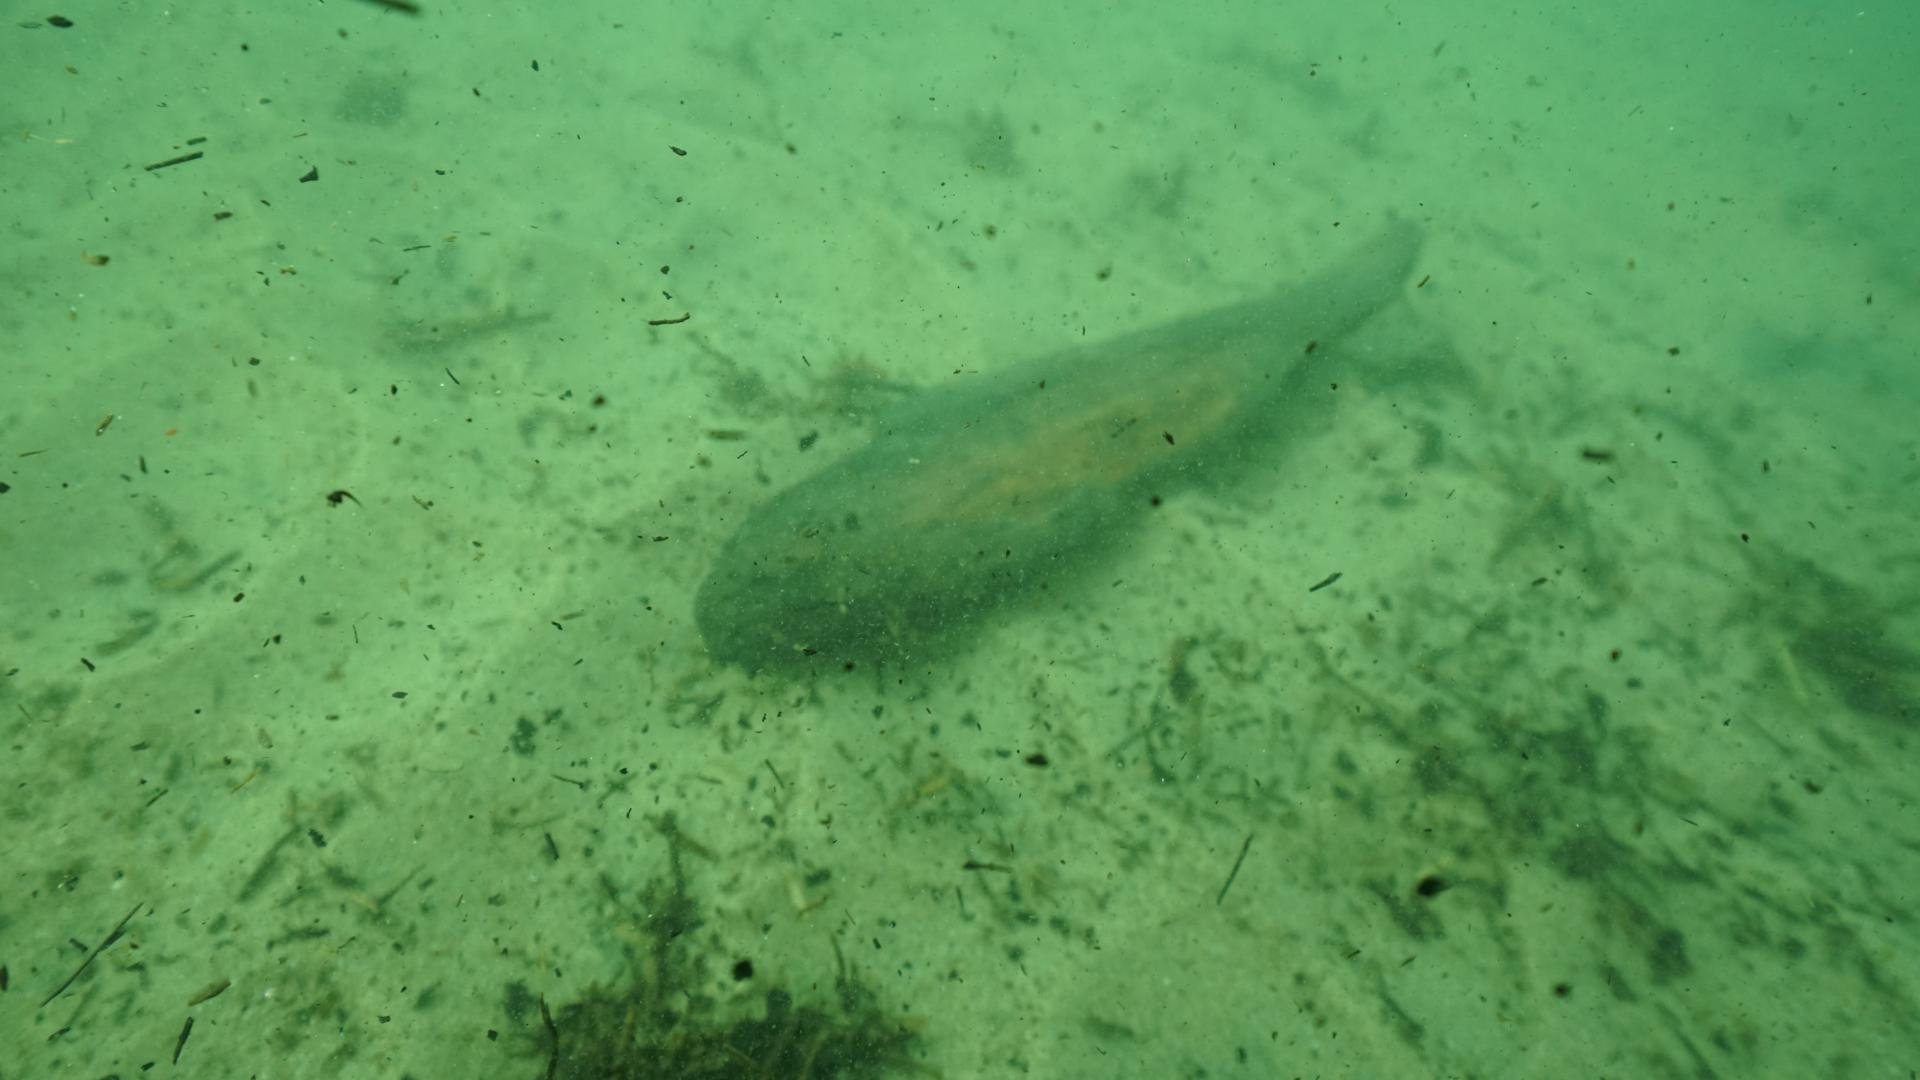wood: (688, 218, 1425, 666)
